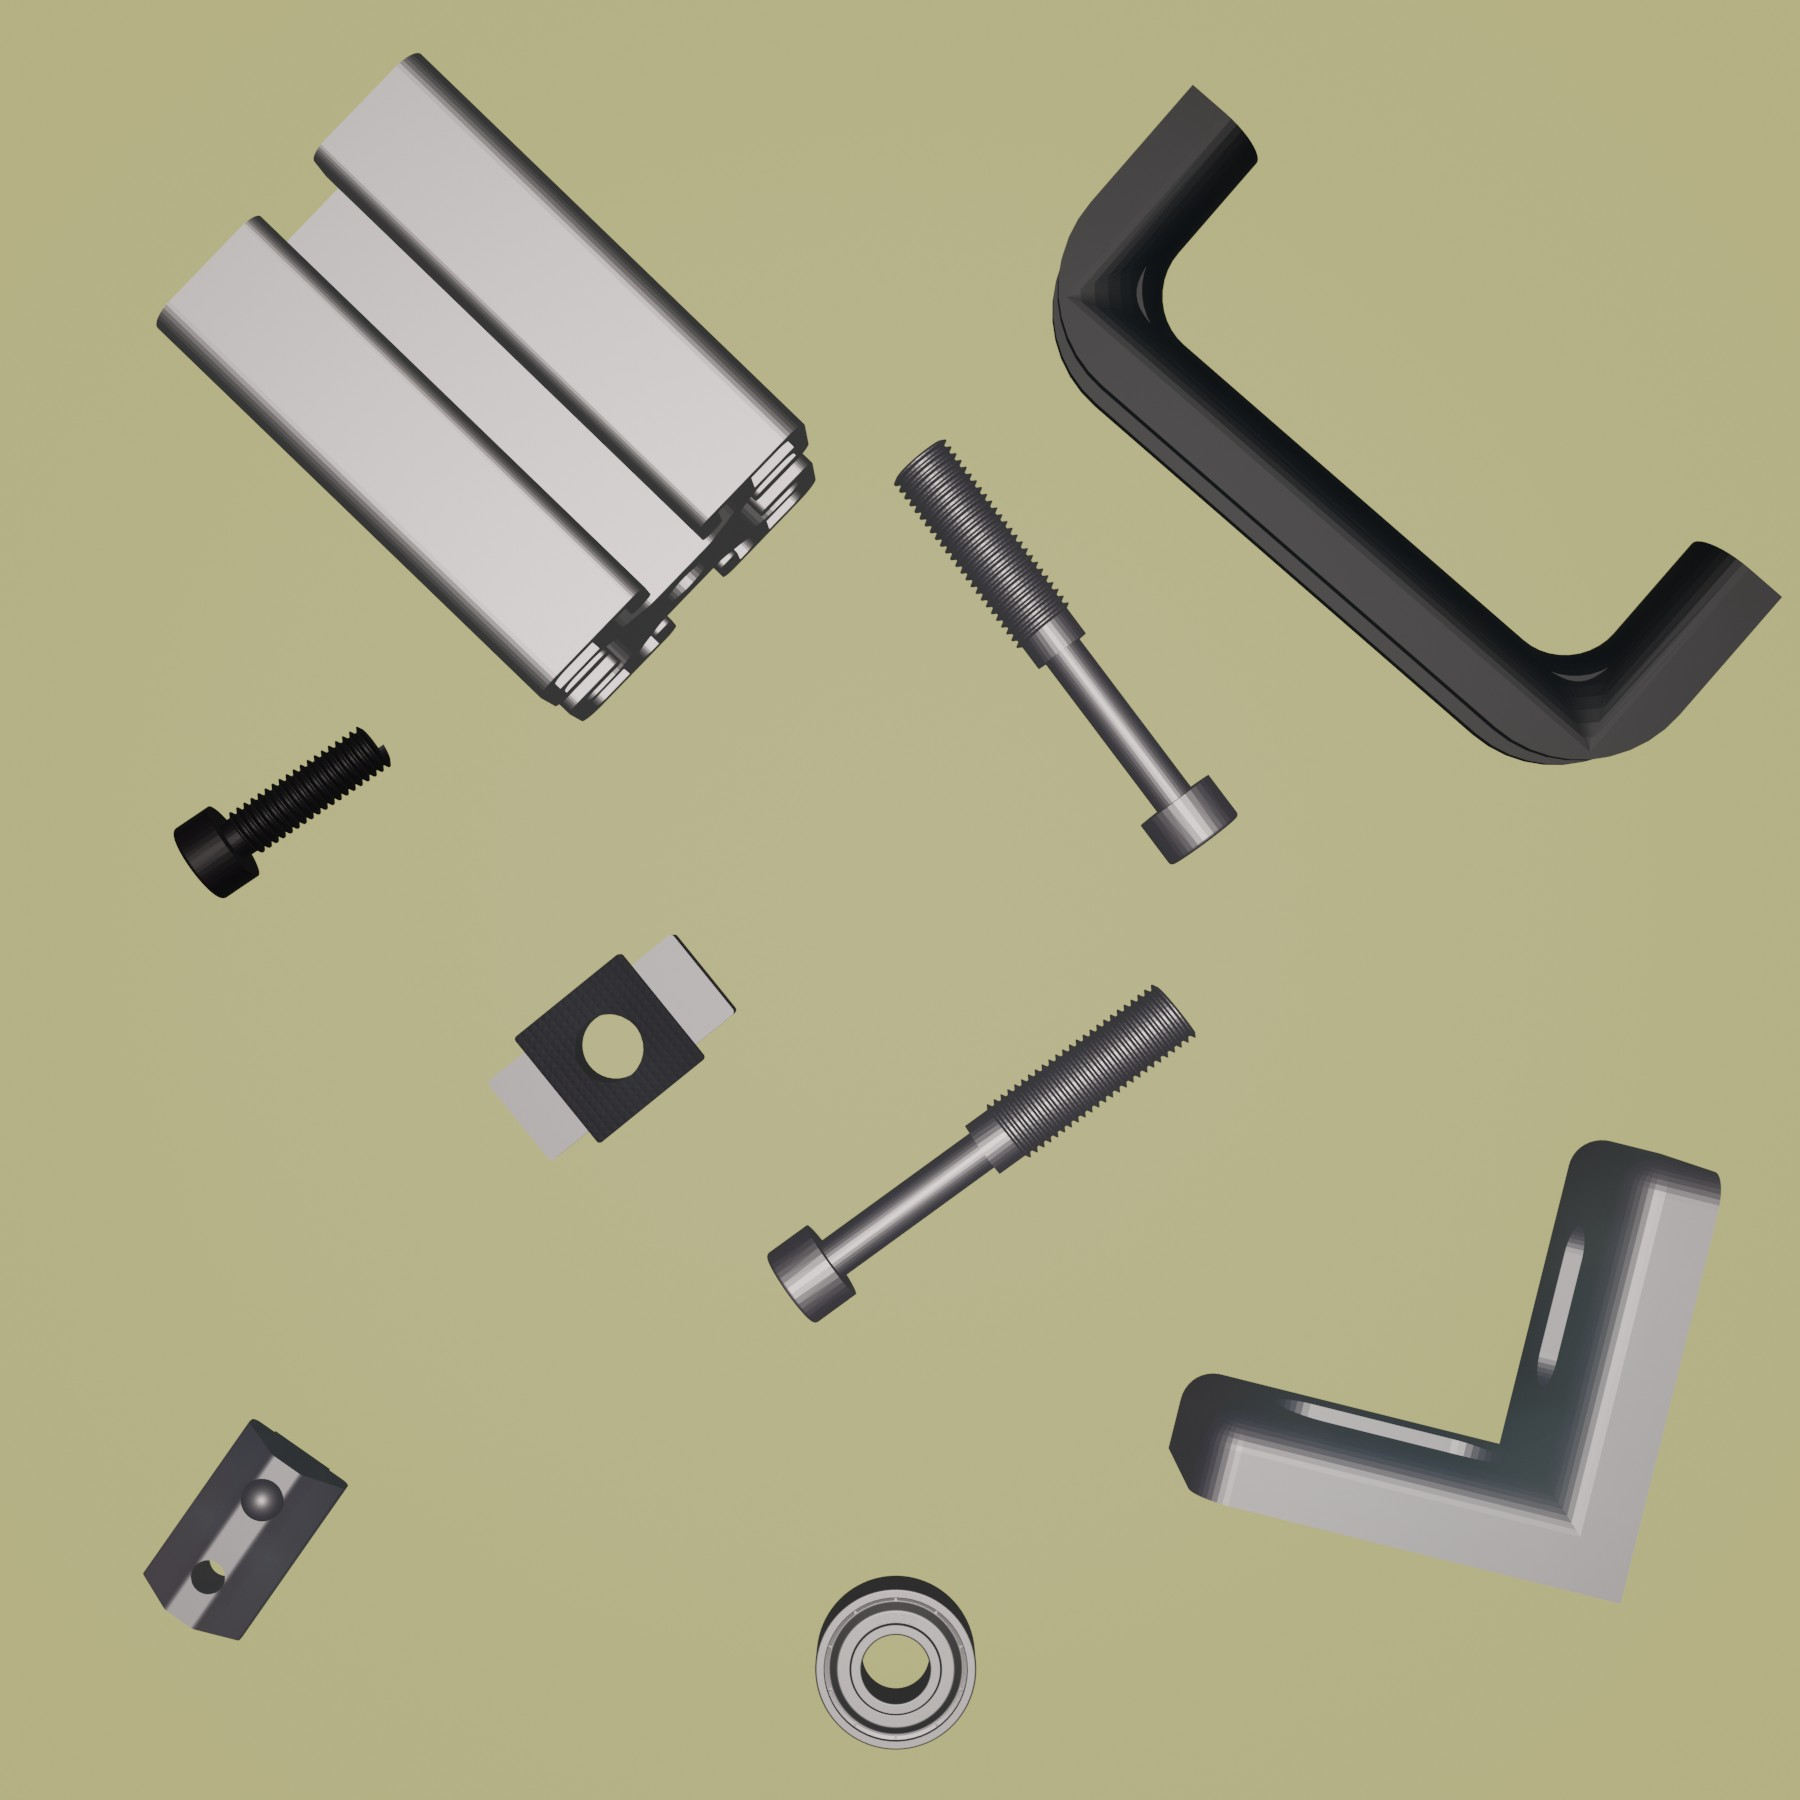Aluminium Extension: (155, 49, 819, 727)
Ball Bearing: (813, 1574, 979, 1754)
Multiwinkel: (1165, 1136, 1724, 1609)
Pull Handle: (1052, 81, 1785, 766)
Shoulder Socket Head Cap Screw: (890, 437, 1240, 869), (765, 981, 1198, 1327)
Socket Head Cap Screw: (171, 725, 394, 902)
T Nut Square: (478, 931, 738, 1159)
T Spring Nut: (140, 1414, 349, 1643)
